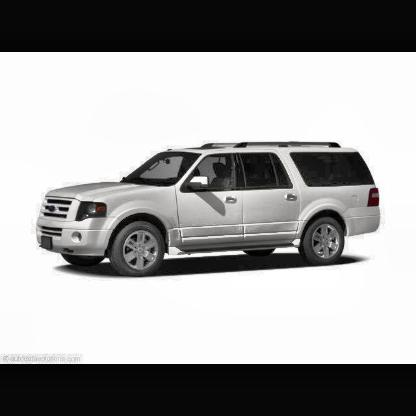Ford Expedition EL SUV 2009: (36, 143, 382, 280)
